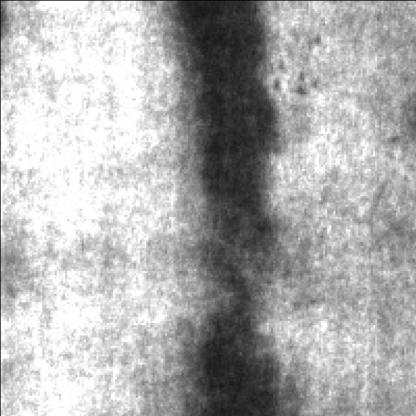patches: (191, 2, 279, 262), (185, 310, 295, 416)
